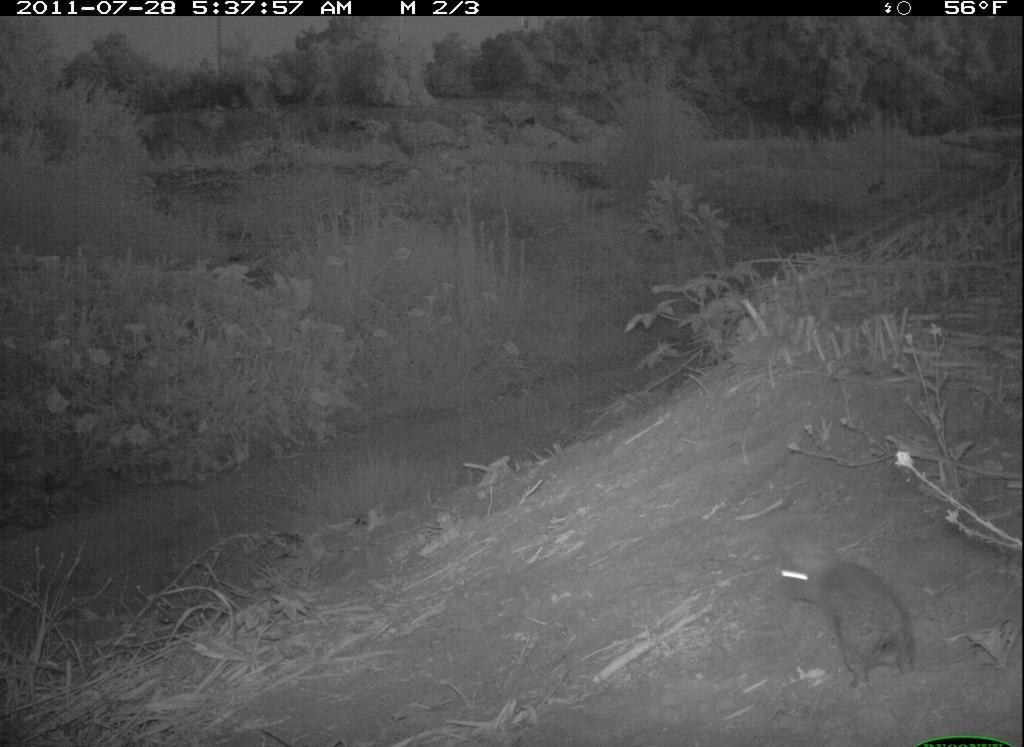rabbit: (772, 523, 914, 688)
